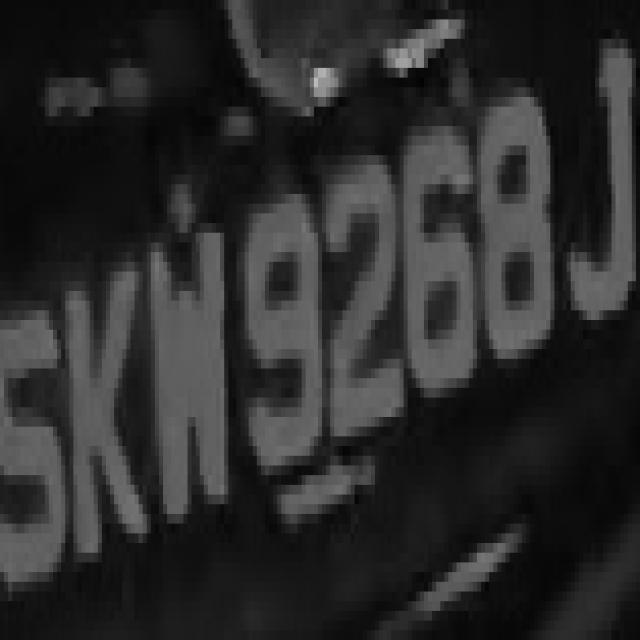2: (322, 146, 404, 494)
6: (391, 87, 477, 456)
8: (464, 68, 562, 407)
9: (232, 204, 322, 514)
J: (4, 0, 4, 6)
K: (69, 233, 147, 601)
S: (16, 262, 61, 630)
W: (138, 223, 236, 562)
